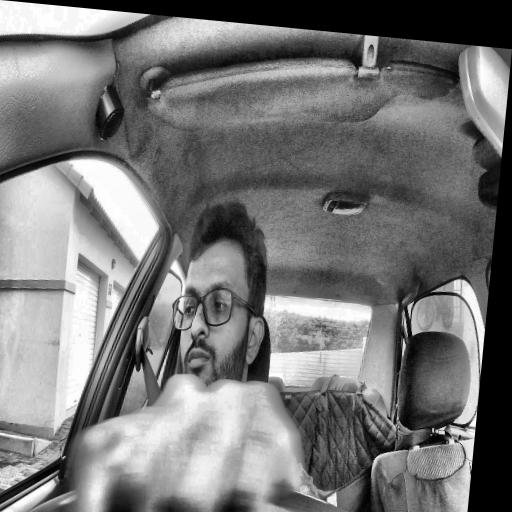awake: (164, 197, 276, 408)
